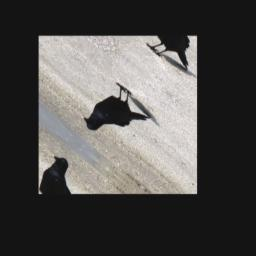Crow: (79, 77, 157, 157)
